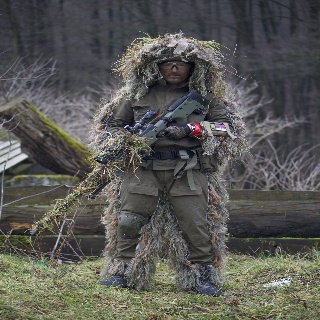rifle: (29, 90, 212, 246)
